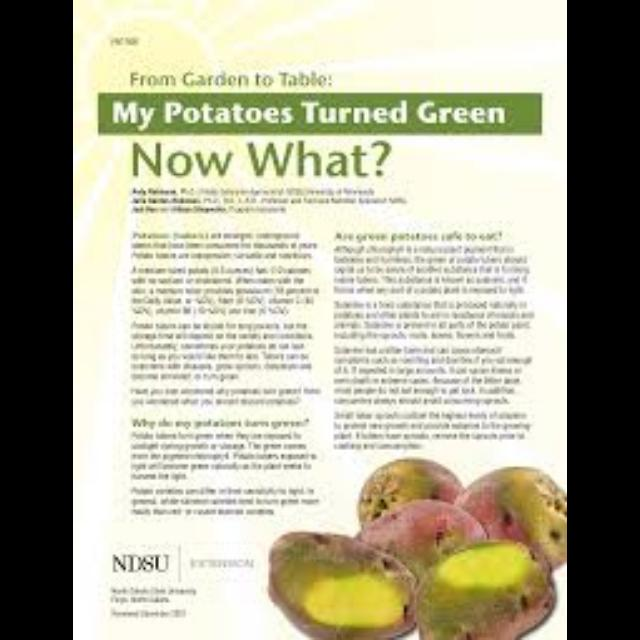Defected potato: (257, 526, 418, 634), (410, 550, 564, 640), (452, 460, 568, 568), (364, 498, 501, 584), (354, 454, 471, 544)
